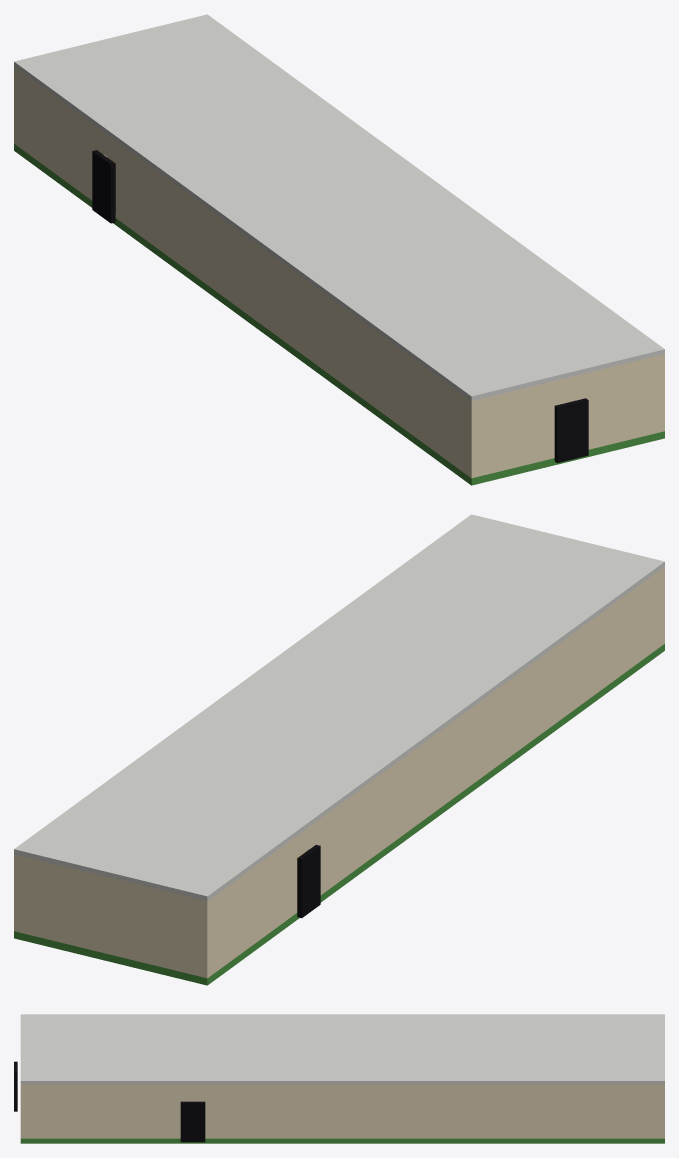
The model's file is rdwe_long_table.glb.
3 views of the same model, one above another, from view 1: azimuth 30°, elevation 25°; view 2: azimuth 150°, elevation 25°; view 3: azimuth 270°, elevation 25° (orthographic). The views are drawn at different scales.
Parts seen in each view (by area): view 1: Room_Ceiling, Room_Wall_W_3, Room_Wall_S_1, Room_Wall_W_1, Room_Wall_S_3, Room_Floor, Beyond_dining, Beyond_kitchen; view 2: Room_Ceiling, Room_Wall_W_3, Room_Wall_N_1, Room_Wall_W_1, Room_Floor, Beyond_kitchen; view 3: Room_Ceiling, Room_Wall_E_1, Room_Wall_E_3, Room_Floor, Beyond_party, Room_Wall_E_2, Room_Wall_S_3, Room_Wall_N_1.
Boxes of the visible parts, left/top/right/bottom form: Room_Ceiling: left=14, top=14, right=664, bottom=401; Room_Wall_W_3: left=116, top=141, right=468, bottom=476; Room_Wall_S_1: left=469, top=380, right=557, bottom=478; Room_Wall_W_1: left=16, top=68, right=107, bottom=200; Room_Wall_S_3: left=578, top=354, right=664, bottom=449; Room_Floor: left=14, top=144, right=664, bottom=485; Beyond_dining: left=554, top=398, right=588, bottom=463; Beyond_kitchen: left=92, top=150, right=115, bottom=223; Room_Ceiling: left=14, top=514, right=664, bottom=901; Room_Wall_W_3: left=305, top=568, right=662, bottom=894; Room_Wall_N_1: left=14, top=854, right=209, bottom=978; Room_Wall_W_1: left=210, top=836, right=296, bottom=976; Room_Floor: left=14, top=644, right=664, bottom=985; Beyond_kitchen: left=297, top=845, right=320, bottom=918; Room_Ceiling: left=20, top=1014, right=664, bottom=1084; Room_Wall_E_1: left=201, top=1084, right=661, bottom=1138; Room_Wall_E_3: left=24, top=1084, right=184, bottom=1138; Room_Floor: left=20, top=1138, right=664, bottom=1143; Beyond_party: left=180, top=1101, right=205, bottom=1142; Room_Wall_E_2: left=185, top=1084, right=200, bottom=1101; Room_Wall_S_3: left=20, top=1084, right=24, bottom=1138; Room_Wall_N_1: left=661, top=1084, right=664, bottom=1138.
Size of the model in its own units: 9.1 by 3.7 by 34.75.
